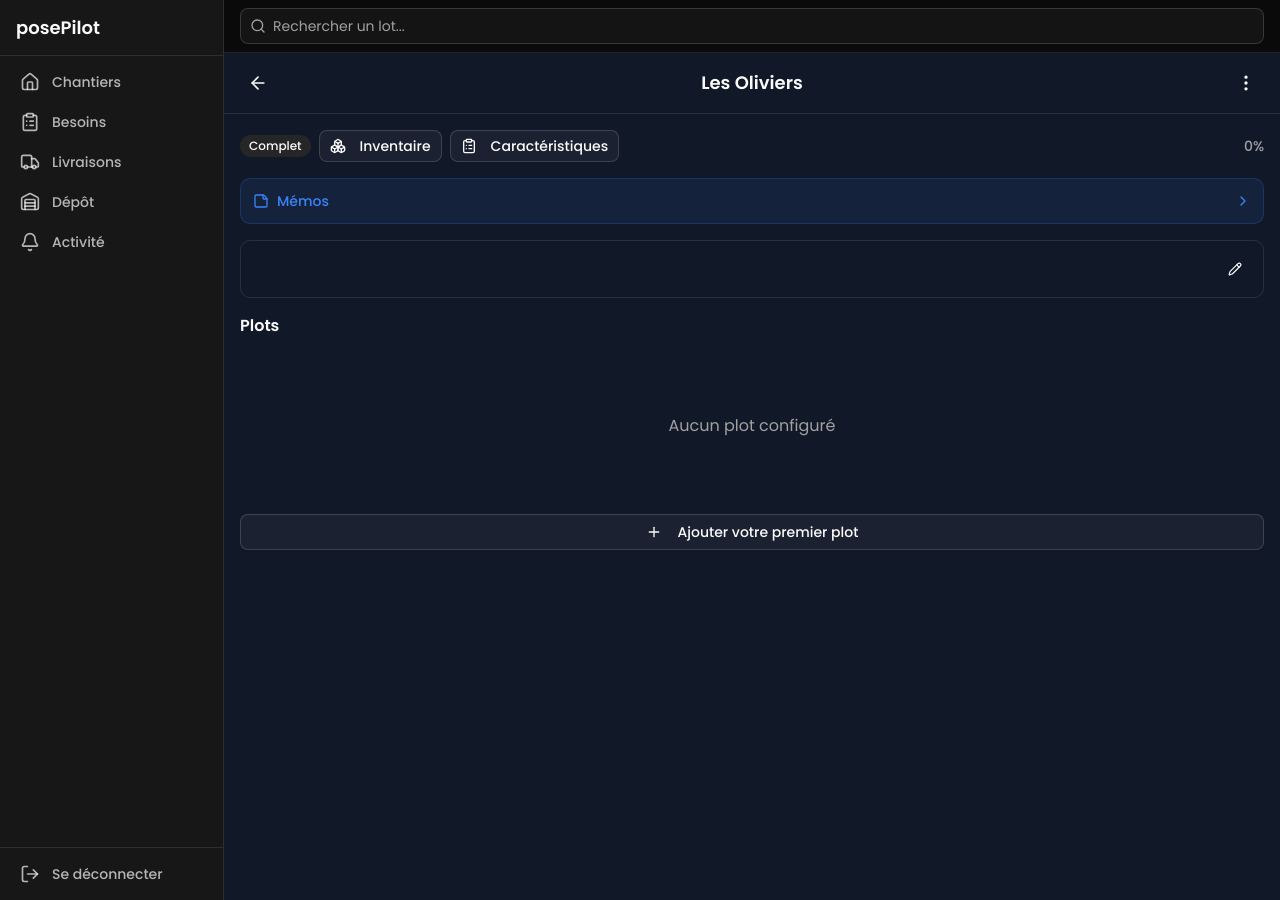
ChantierIndexPage — Sheet creation › opens Sheet when "Ajouter un plot" is clicked
The image size is (1280, 900).
Expected: the text "Aucun plot configuré" is shown, [668, 414, 835, 438]
Click the button "Ajouter votre premier plot" at [752, 532], box [240, 514, 1264, 550]
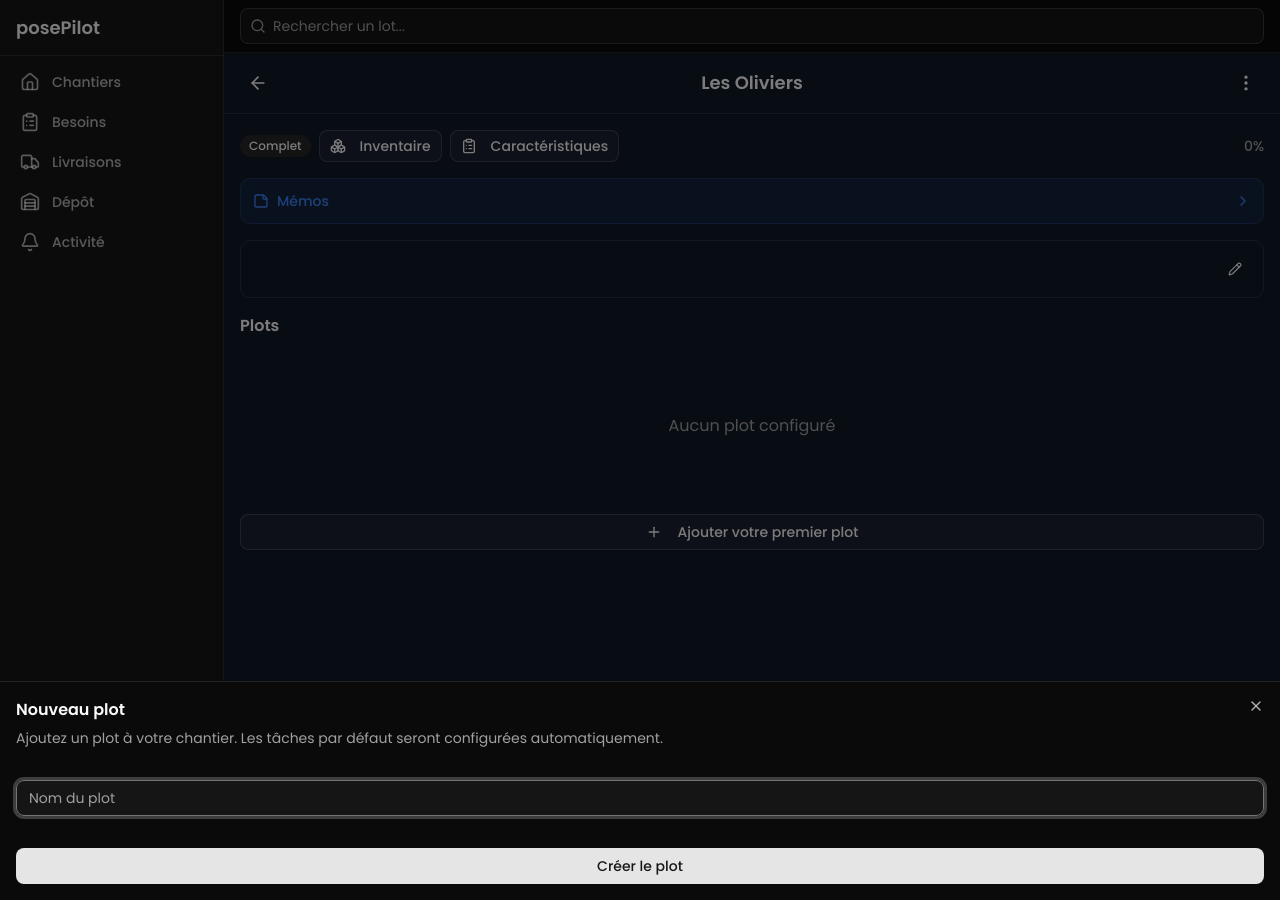
Expected: the heading "Nouveau plot" is shown, [16, 698, 125, 721]
Expected: the field labelled "Nom du plot" is shown, [16, 780, 1264, 816]
Expected: the button "Créer le plot" is shown, [16, 848, 1264, 884]
